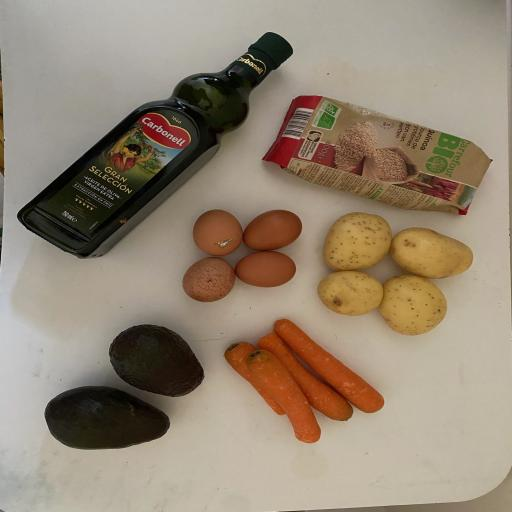avocado: (40, 382, 175, 455), (104, 319, 210, 403)
carrot: (270, 316, 389, 416), (254, 327, 358, 425), (246, 349, 326, 445), (219, 338, 288, 422)
egg: (240, 206, 305, 255), (176, 255, 238, 304), (189, 206, 245, 258), (231, 248, 301, 288)
olive_oil: (12, 26, 298, 262)
potato: (386, 226, 480, 280), (377, 272, 452, 338), (319, 208, 395, 272), (313, 268, 388, 318)
quinoa: (260, 92, 494, 218)
